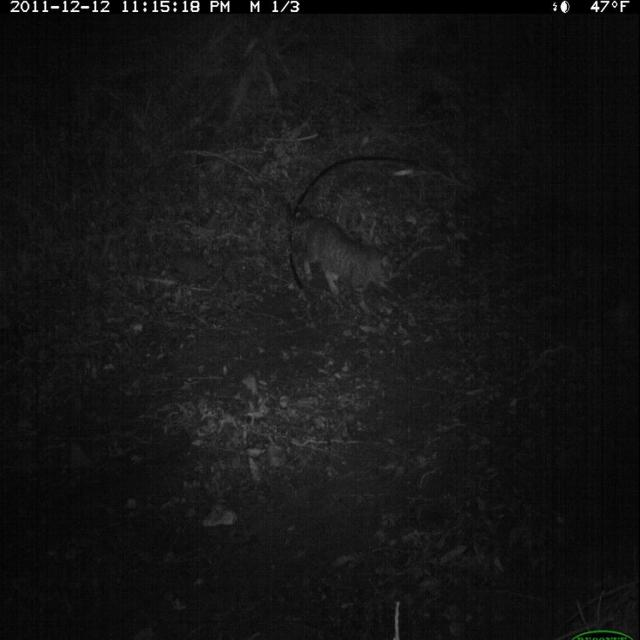cat: (284, 200, 399, 317)
